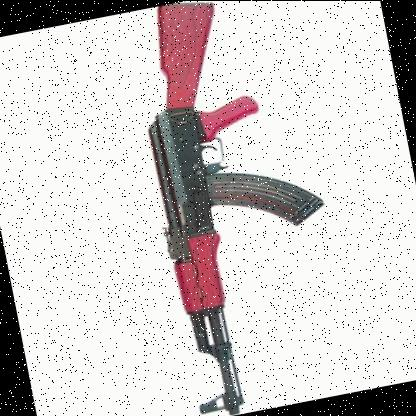rifle: (89, 0, 366, 416)
